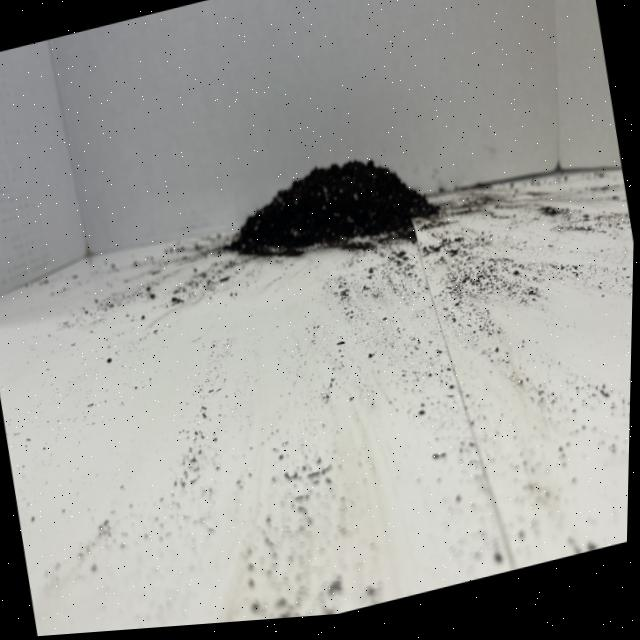soil: (214, 132, 446, 287)
